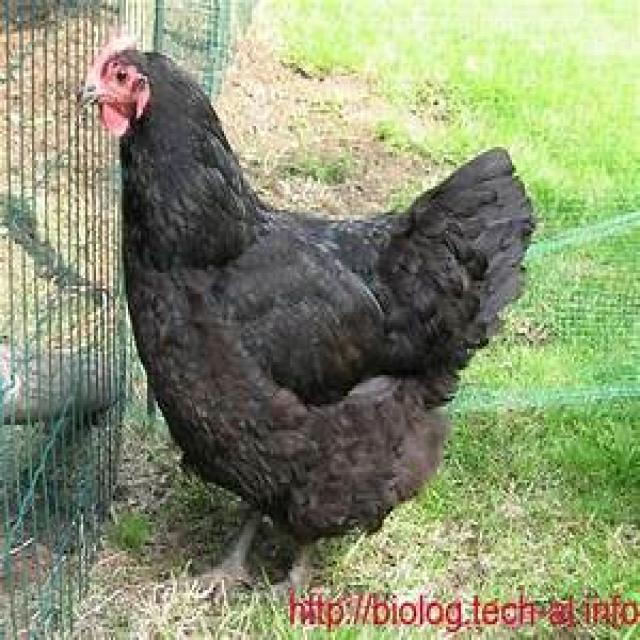animal: (62, 34, 561, 585)
